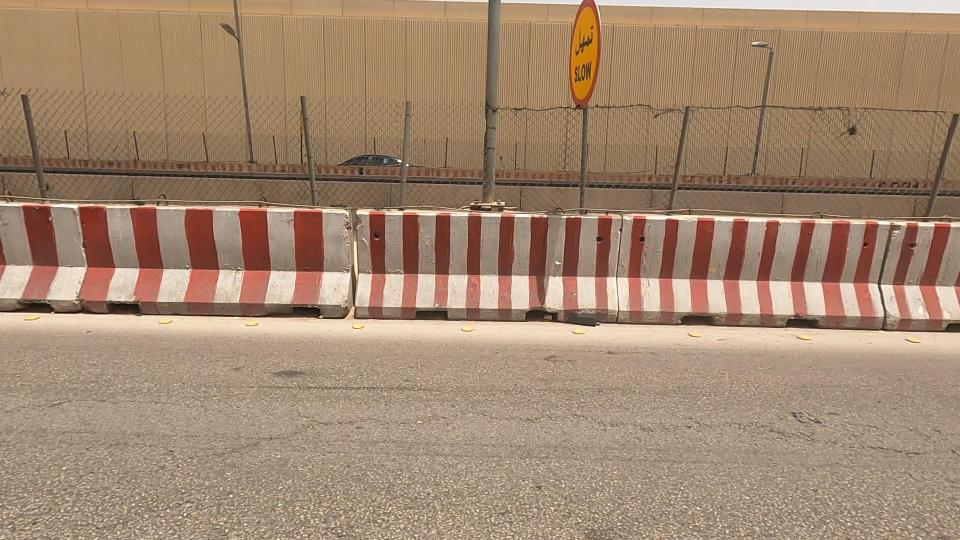CONSTRUCTION_ROAD: (279, 115, 923, 362), (0, 110, 507, 353)
